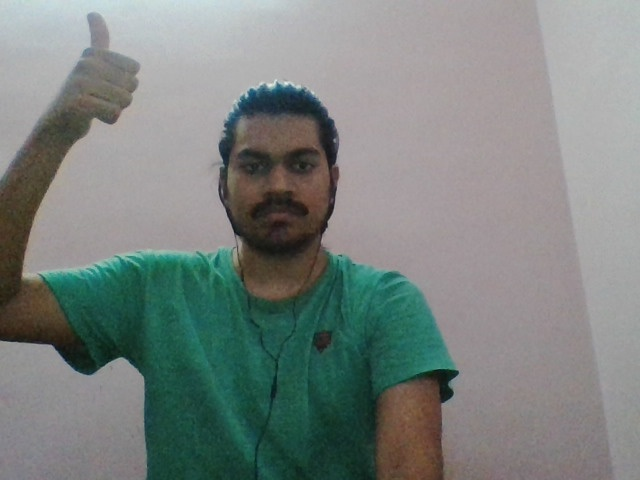ThumbsUp: (66, 9, 143, 130)
